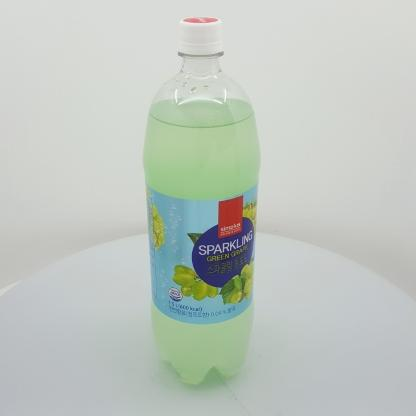---------------: (142, 17, 261, 385)
